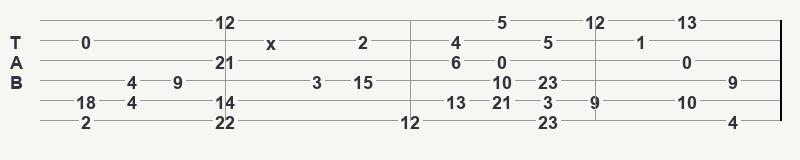0: (81, 32, 95, 49), (497, 52, 511, 69), (682, 52, 696, 69)
1: (636, 32, 650, 49)
10: (492, 72, 516, 89), (677, 92, 701, 109)
12: (215, 12, 239, 29), (400, 112, 424, 129), (585, 12, 609, 29)
13: (446, 92, 470, 109), (677, 12, 701, 29)
14: (215, 92, 239, 109)
15: (353, 72, 377, 89)
18: (76, 92, 100, 109)
2: (81, 112, 95, 129), (358, 32, 372, 49)
21: (215, 52, 239, 69), (492, 92, 516, 109)
22: (215, 112, 239, 129)
23: (538, 72, 562, 89), (538, 112, 562, 129)
3: (312, 72, 326, 89), (543, 92, 557, 109)
4: (127, 72, 141, 89), (127, 92, 141, 109), (451, 32, 465, 49), (728, 112, 742, 129)
5: (497, 12, 511, 29), (543, 32, 557, 49)
6: (451, 52, 465, 69)
9: (173, 72, 187, 89), (590, 92, 604, 109), (728, 72, 742, 89)
x: (266, 33, 280, 47)
